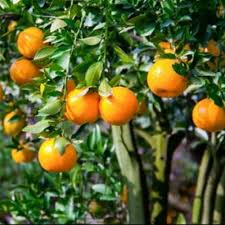orange: (96, 82, 139, 125), (146, 57, 188, 98), (38, 136, 77, 171), (63, 87, 100, 123), (190, 95, 225, 132)
